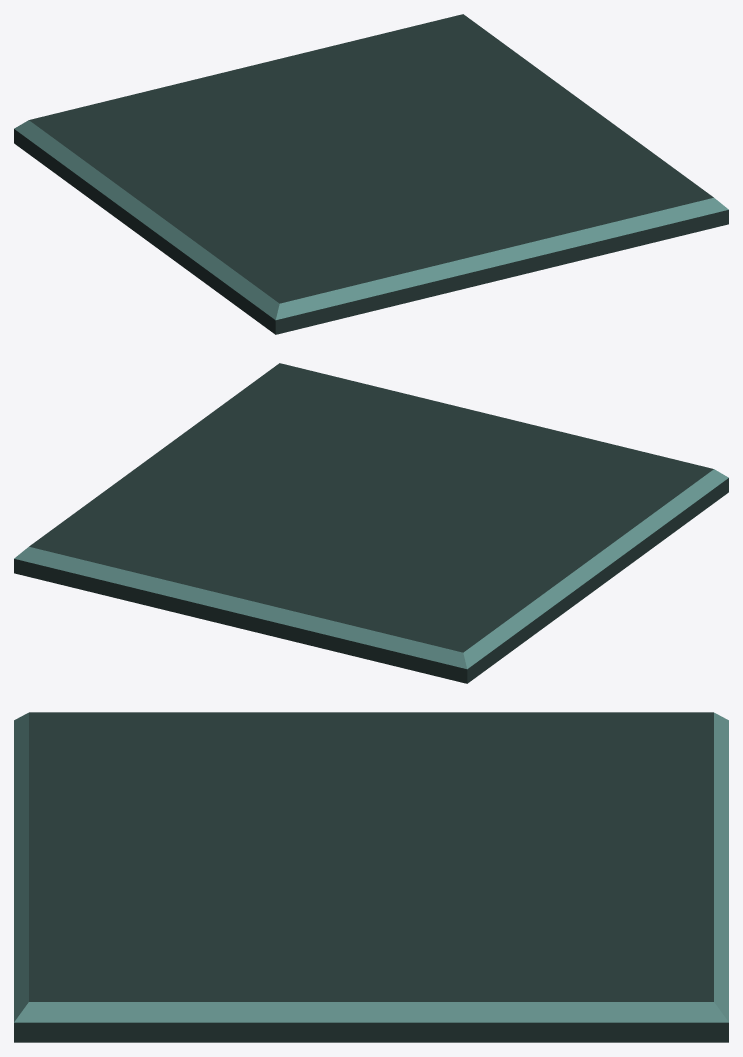
File: FloorTile.fbx
3 views of the same model, one above another, from view 1: azimuth 30°, elevation 25°; view 2: azimuth 150°, elevation 25°; view 3: azimuth 270°, elevation 25° (orthographic). The views are drawn at different scales.
Visible parts, largest first — view 1: Plane.047; view 2: Plane.047; view 3: Plane.047.
Boxes of the visible parts, bbox=[...] form: Plane.047: bbox=[14, 14, 728, 334]; Plane.047: bbox=[14, 363, 728, 683]; Plane.047: bbox=[14, 712, 728, 1042].
Size of the model in its own units: 190 by 10 by 190.
